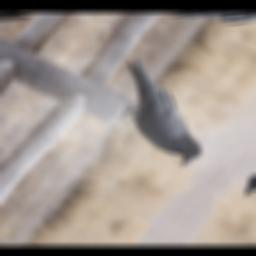Crow: (78, 55, 242, 170)
